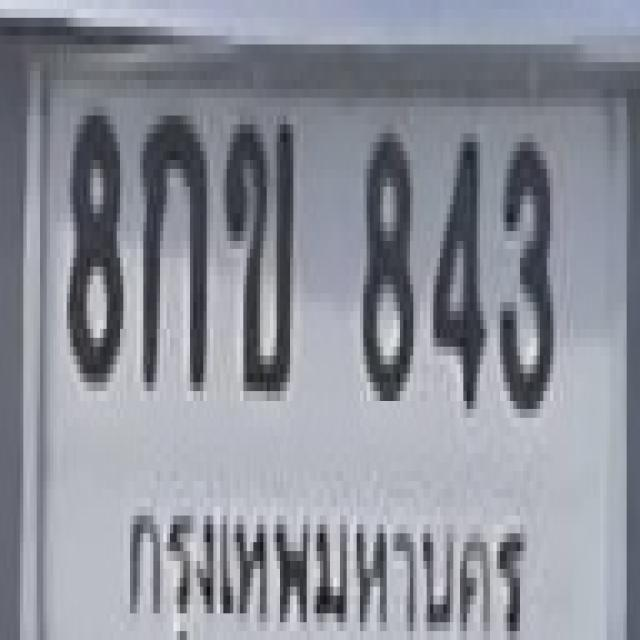-: (222, 116, 292, 391), (138, 107, 205, 382)
3: (497, 133, 550, 409)
4: (430, 124, 483, 400)
8: (67, 98, 120, 373), (360, 125, 410, 391)
BKK: (120, 462, 527, 640)
